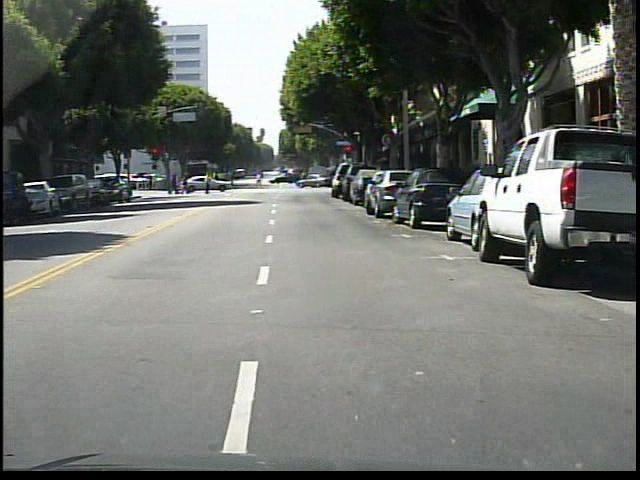person: (202, 167, 222, 196)
